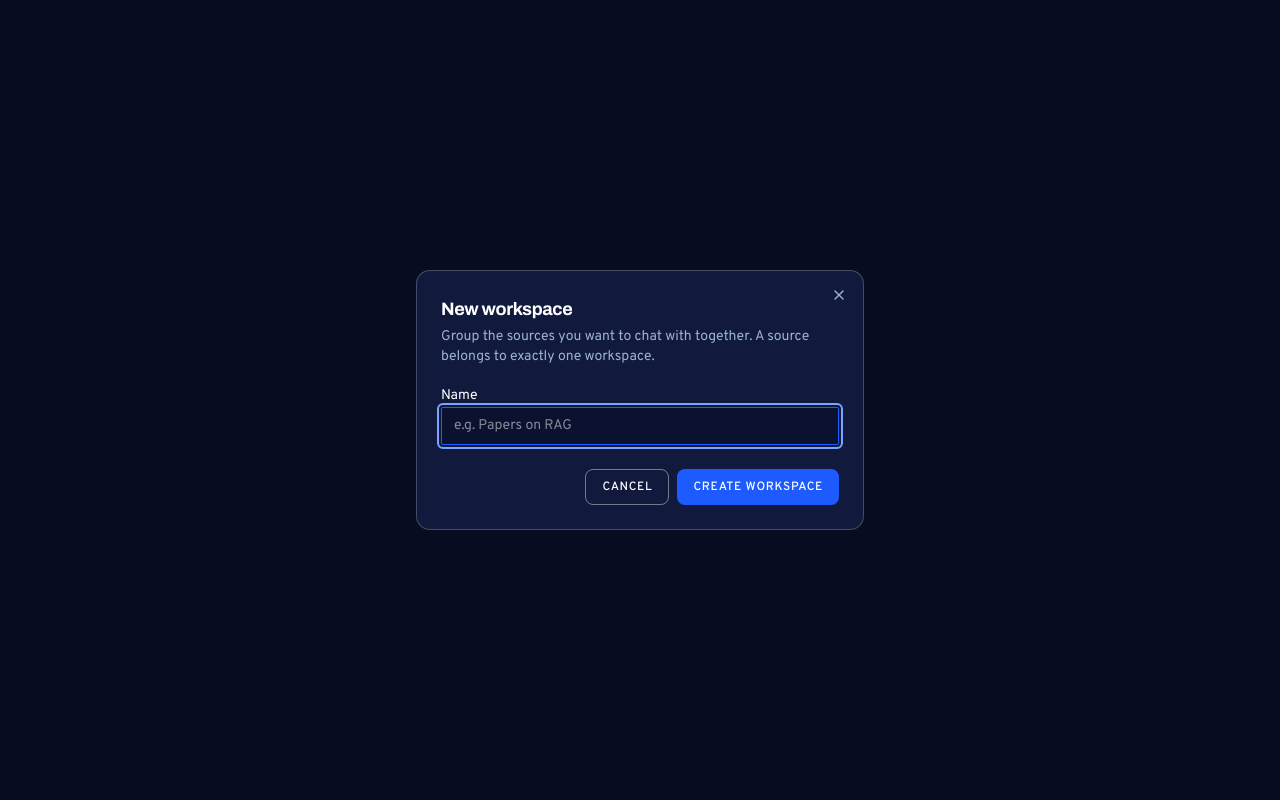
Test: NewWorkspaceDialog › blocks empty submission with an inline error
The width and height of the screenshot is (1280, 800).
Click the button "Create workspace": [758, 487] box 678,469 -> 839,505
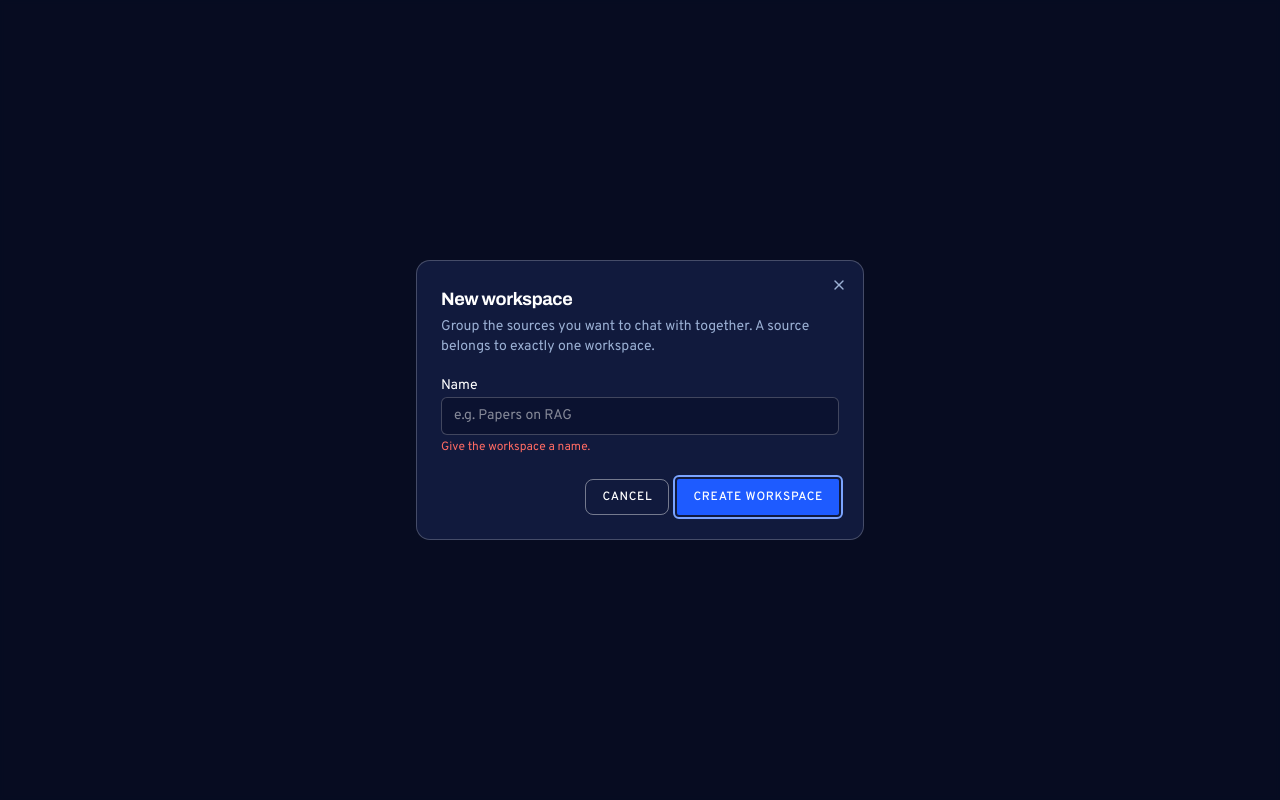
Expected: the message shows "Give the workspace a name", 441,439 -> 590,455
